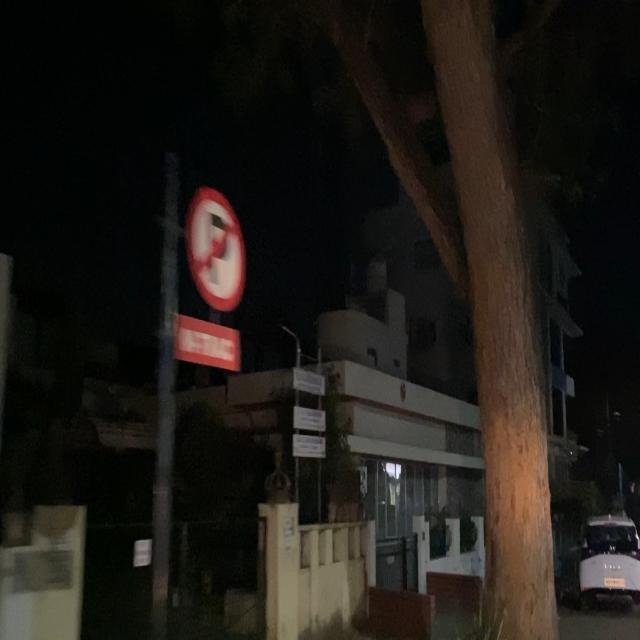bien_cam: (187, 183, 245, 315)
